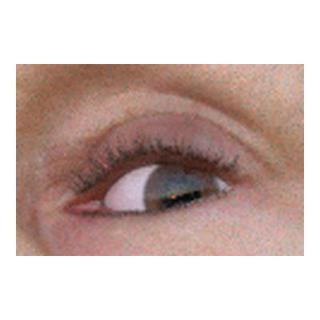pupil: (163, 178, 201, 216)
